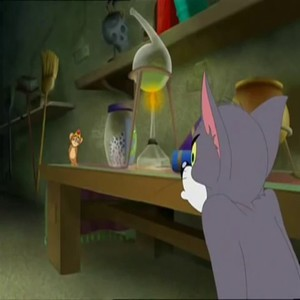Jerry: (66, 129, 88, 167)
